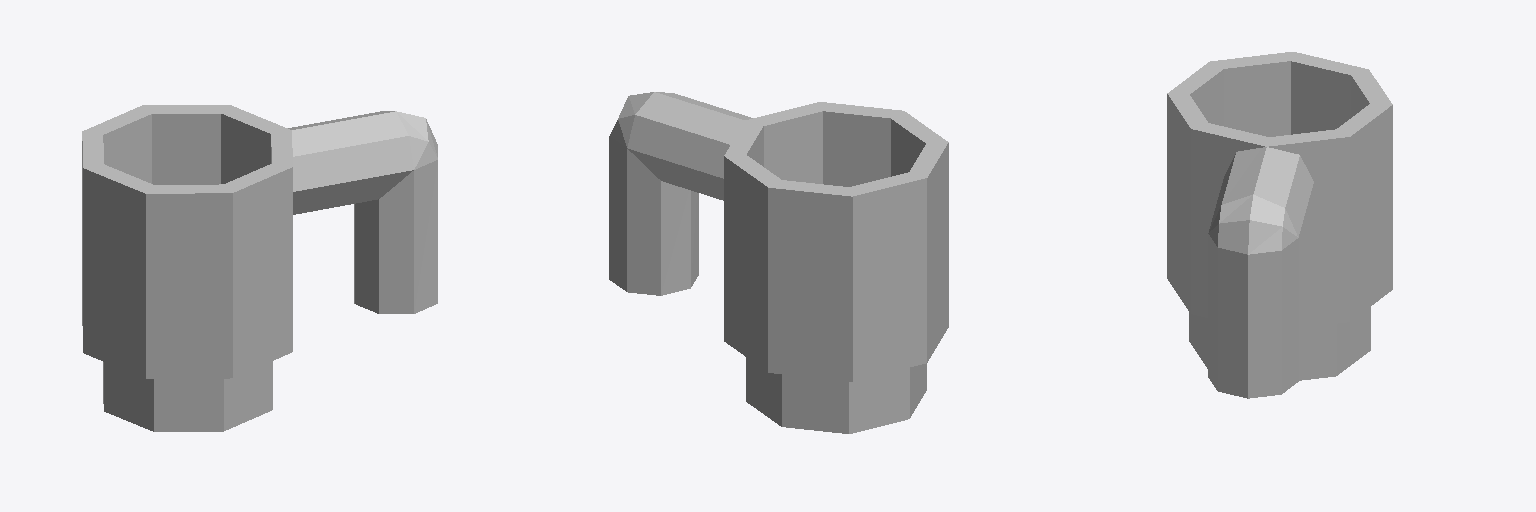
File: mug.obj
3 renders of one model, left to right at view 1: azimuth 30°, elevation 25°; view 2: azimuth 150°, elevation 25°; view 3: azimuth 270°, elevation 25°, orthographic.
Parts seen in each view (by area): view 1: Mesh_0034_Mesh_0034Mesh; view 2: Mesh_0034_Mesh_0034Mesh; view 3: Mesh_0034_Mesh_0034Mesh.
Boxes of the visible parts, x1=… form: Mesh_0034_Mesh_0034Mesh: x1=82, y1=105, x2=437, y2=431; Mesh_0034_Mesh_0034Mesh: x1=609, y1=92, x2=948, y2=433; Mesh_0034_Mesh_0034Mesh: x1=1167, y1=52, x2=1392, y2=398.
Size of the model in its own units: 0.1286 by 0.0914 by 0.0757.